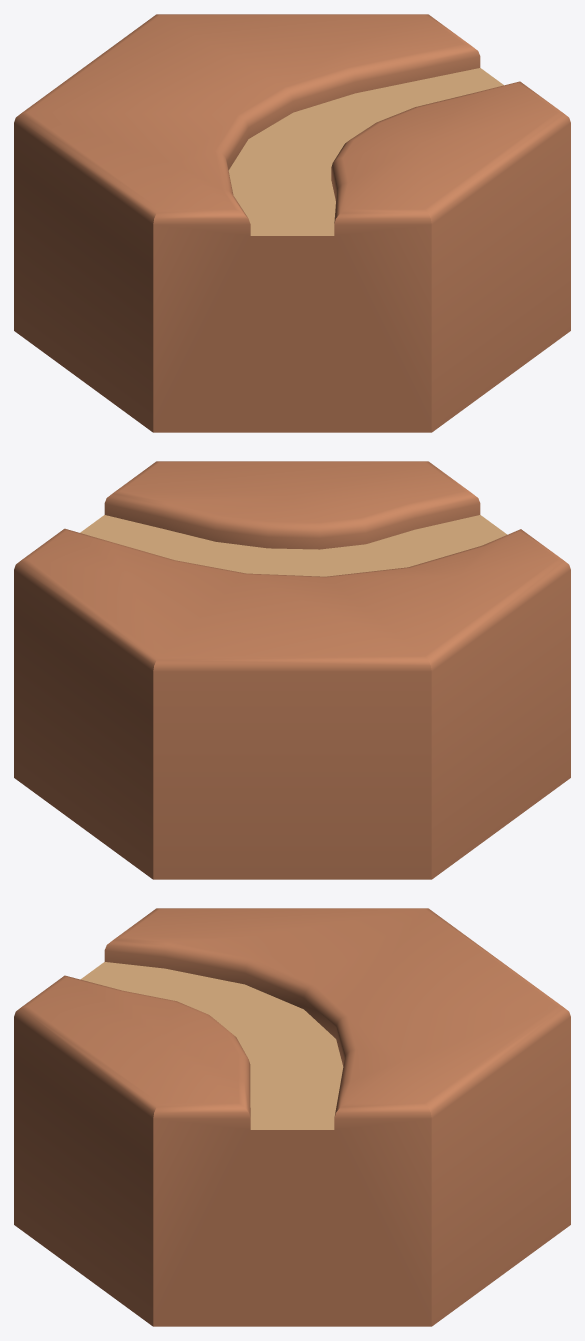
Rendered from hex_rock_roadD.glb.
3 views of the same model, one above another, from view 1: azimuth 30°, elevation 25°; view 2: azimuth 150°, elevation 25°; view 3: azimuth 270°, elevation 25° (orthographic).
Visible parts, largest first — view 1: hex_rock_roadD; view 2: hex_rock_roadD; view 3: hex_rock_roadD.
Part boxes in pixels (x1,y1,x2,y2): hex_rock_roadD: (14,14,570,432); hex_rock_roadD: (14,461,570,879); hex_rock_roadD: (14,908,570,1326).
Bounding box in the file's own units: 2 × 1 × 2.31.
